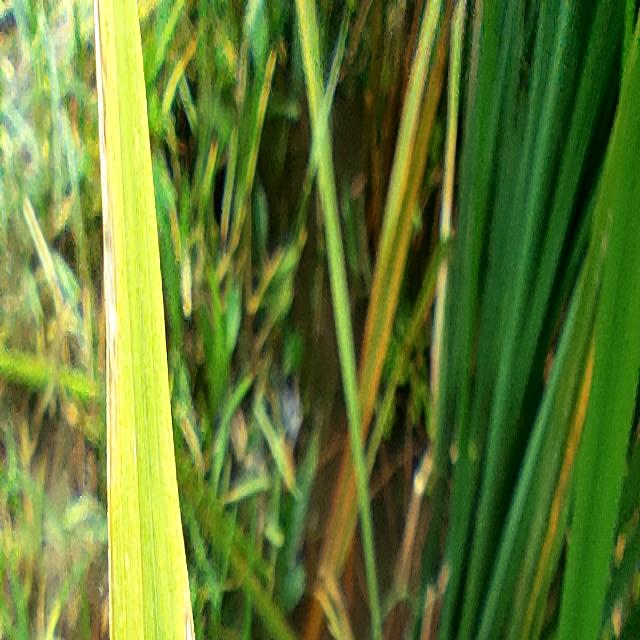BLB: (95, 0, 117, 640), (184, 600, 194, 640)
